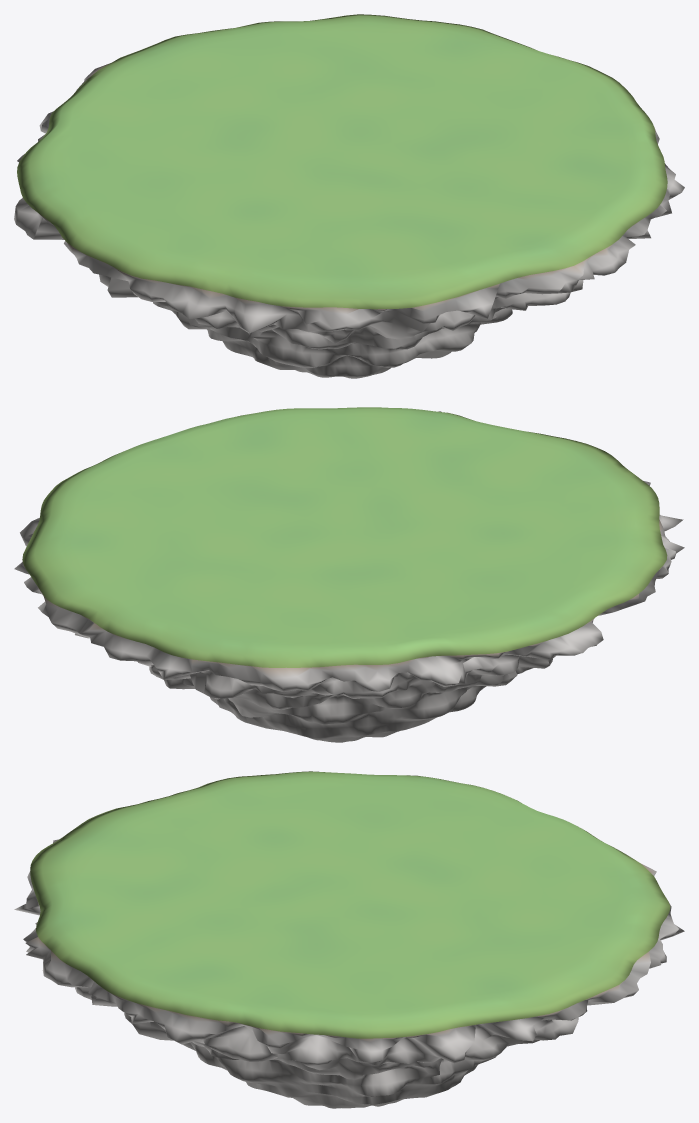
File: main.glb
3 views of the same model, one above another, from view 1: azimuth 30°, elevation 25°; view 2: azimuth 150°, elevation 25°; view 3: azimuth 270°, elevation 25° (orthographic). The views are drawn at different scales.
Visible parts, largest first — view 1: MainIsland; view 2: MainIsland; view 3: MainIsland.
Boxes of the visible parts, x1,y1,x2,y2 form: MainIsland: (14,14,684,378); MainIsland: (14,407,684,742); MainIsland: (14,771,684,1108).
Bounding box in the file's own units: 28.75 × 10.04 × 29.97.
